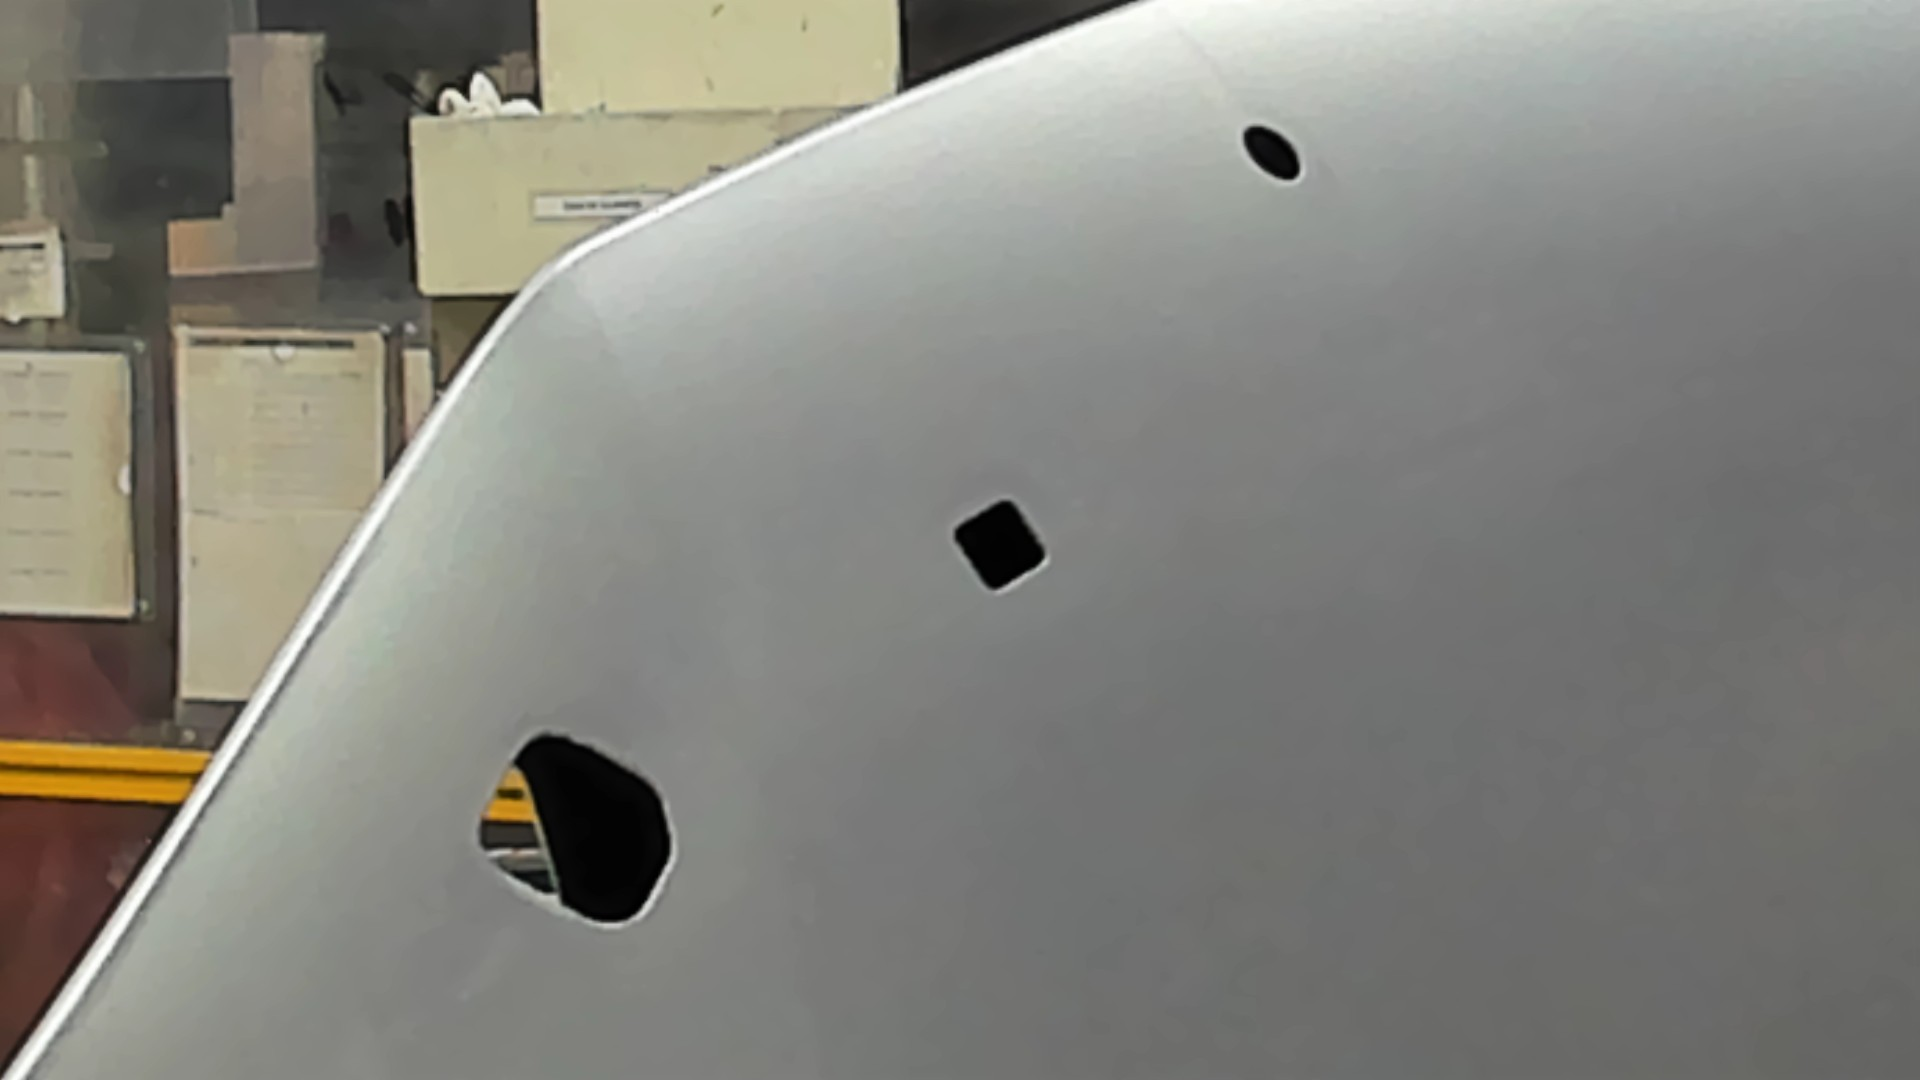capo: (1058, 194, 1920, 1080)
chico: (1238, 115, 1307, 189)
grande: (465, 728, 683, 938)
mediano: (945, 495, 1058, 603)
